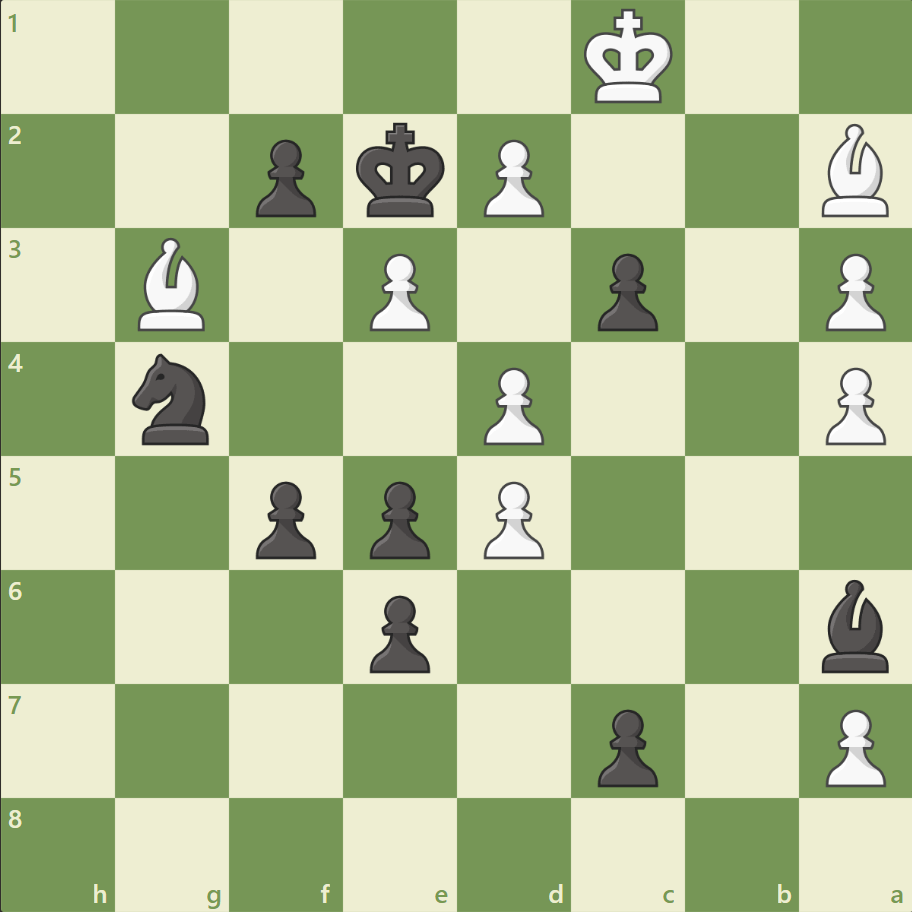B: (131, 233, 215, 336), (812, 120, 896, 222)
K: (579, 4, 679, 112)
P: (474, 473, 549, 564), (474, 359, 549, 450), (474, 132, 549, 223), (815, 700, 889, 791), (815, 359, 889, 450), (815, 246, 889, 337), (361, 246, 435, 337)
b: (812, 574, 896, 676)
k: (351, 117, 451, 225)
n: (124, 348, 222, 450)
p: (247, 473, 322, 564), (247, 132, 322, 223), (588, 700, 662, 791), (361, 586, 435, 677), (361, 473, 435, 564), (588, 246, 662, 337)
